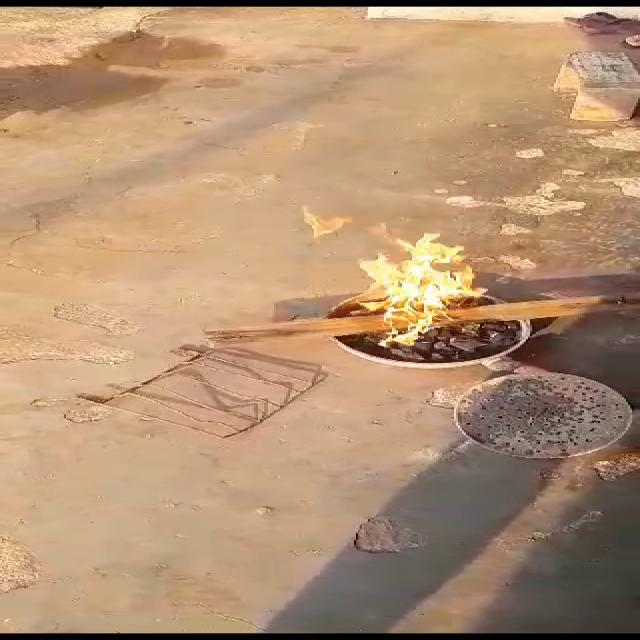Fire: (352, 229, 498, 348), (292, 207, 351, 240)
